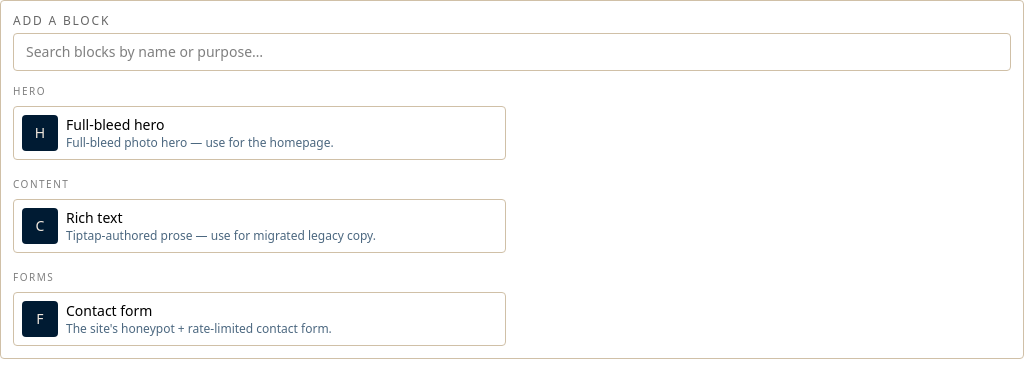
Test case: BlockPalettePicker › shows a no-results message and hides every category when nothing matches
Type "zzz-nonexistent" into the search field with placeholder "Search blocks by name or purpose…".
click(512, 52); type("zzz-nonexistent")  # box x1=13 y1=33 x2=1011 y2=71
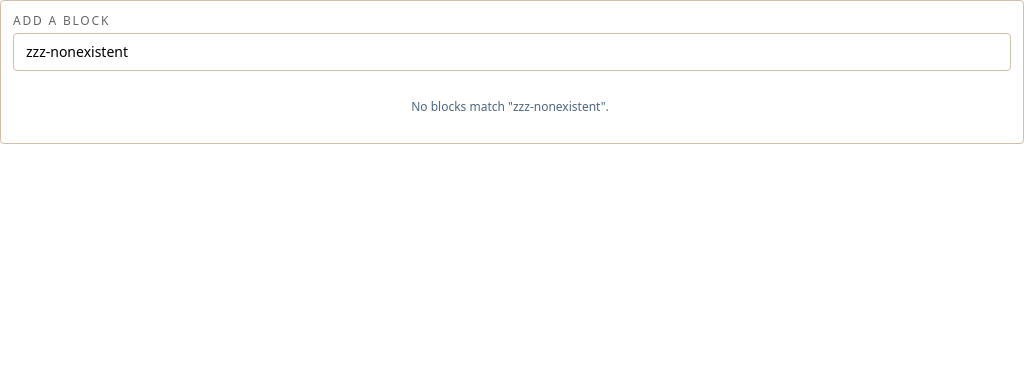
expect the text "No blocks match \"zzz-nonexistent\"." is shown: met, box x1=411 y1=98 x2=609 y2=115
expect the text "Hero" is gone: met
